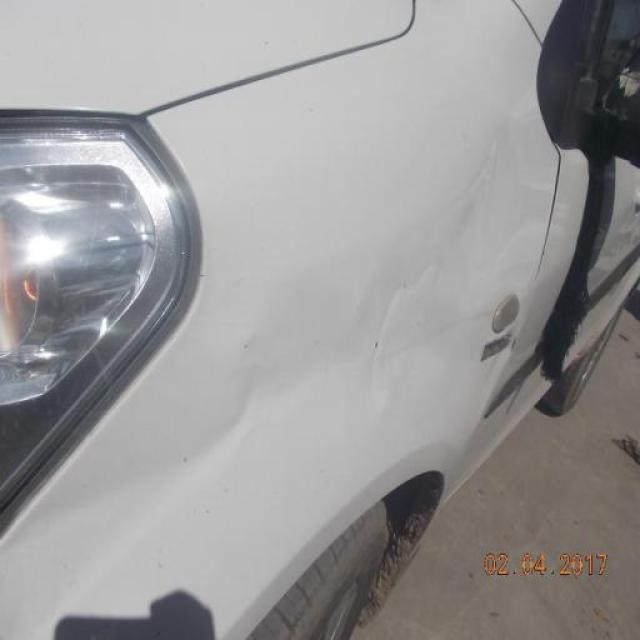dent: (203, 169, 478, 470)
misalignment: (533, 148, 617, 388)
